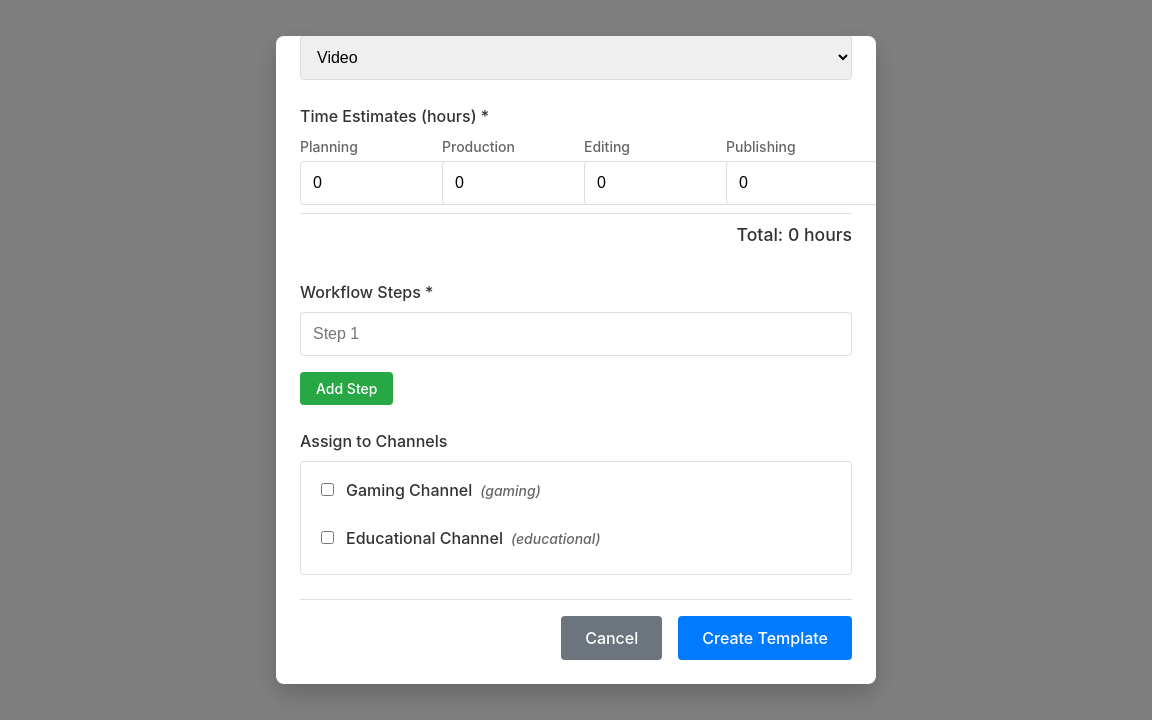
it: TemplateEditor › validates required fields
(page scrolled)
Click the button "Create Template": (765, 638) x1=678 y1=616 x2=852 y2=660
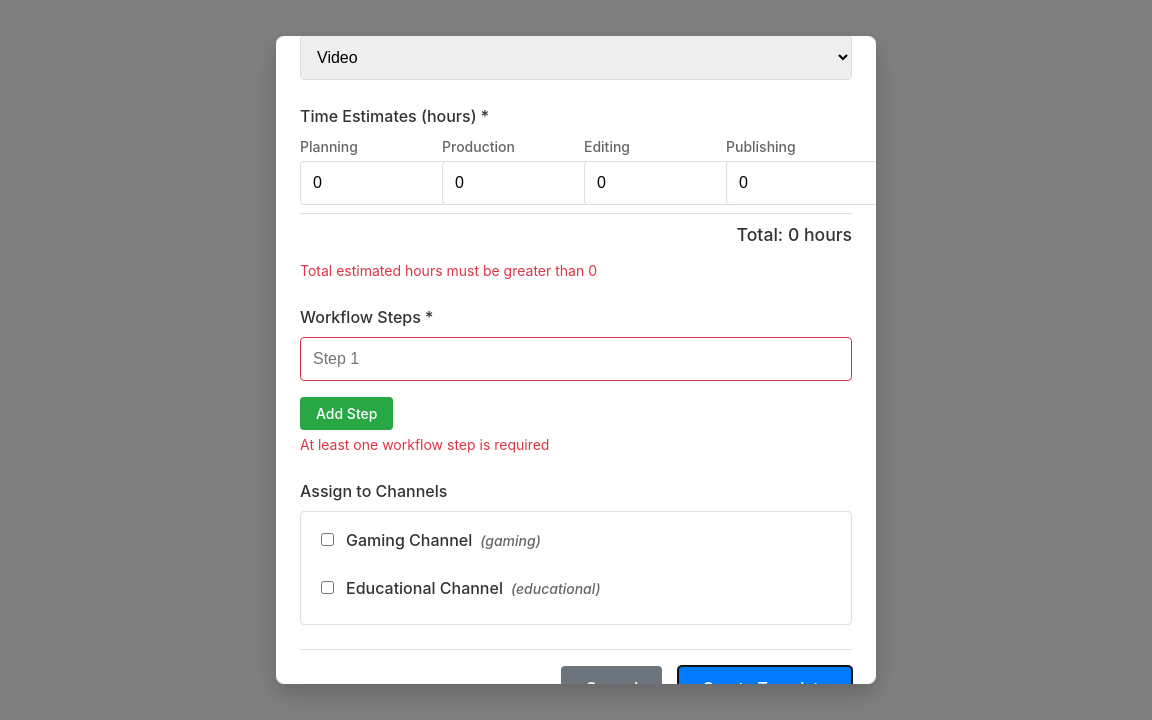
Check: the text "At least one workflow step is required" is shown, box x1=300 y1=436 x2=550 y2=453
Check: the text "Total estimated hours must be greater than 0" is shown, box x1=300 y1=262 x2=597 y2=279
